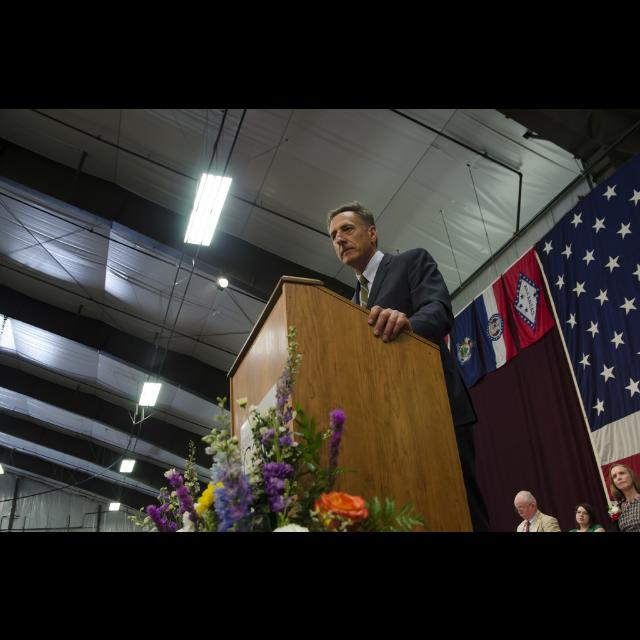Flower: (125, 323, 372, 531), (312, 492, 368, 526)
